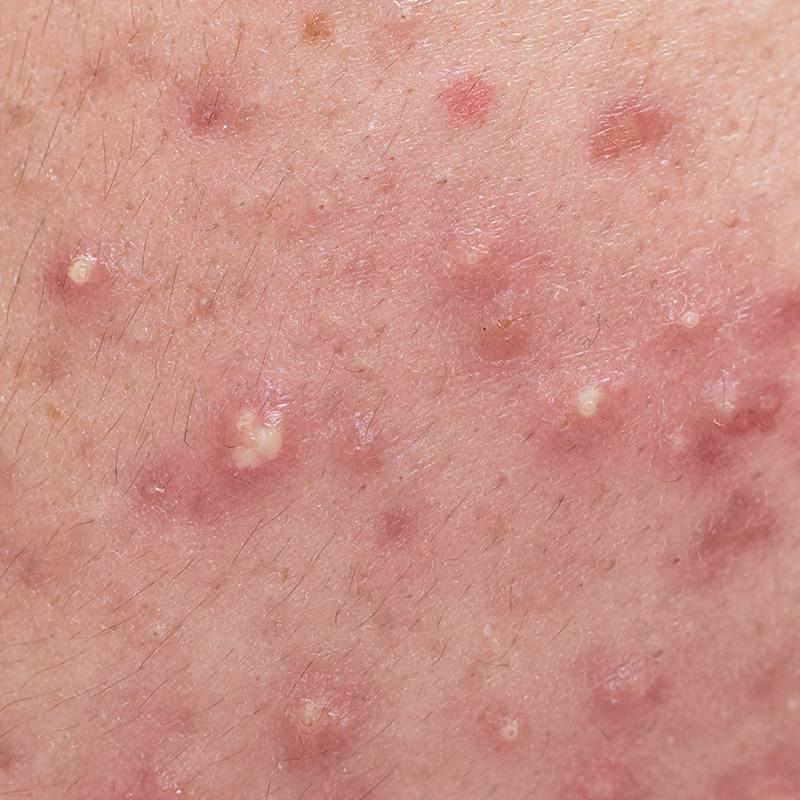acne_scars: (569, 88, 696, 202)
purulent: (532, 368, 645, 450), (56, 212, 107, 325), (660, 277, 729, 360), (267, 679, 338, 750), (489, 693, 532, 766)
sebo-crystan-conglo: (209, 363, 304, 503), (692, 364, 787, 457), (598, 651, 687, 748), (289, 180, 356, 262), (370, 448, 438, 511), (372, 1, 447, 51), (414, 157, 463, 224)
